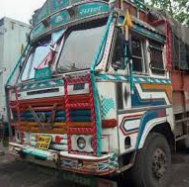truck: (4, 1, 187, 187)
